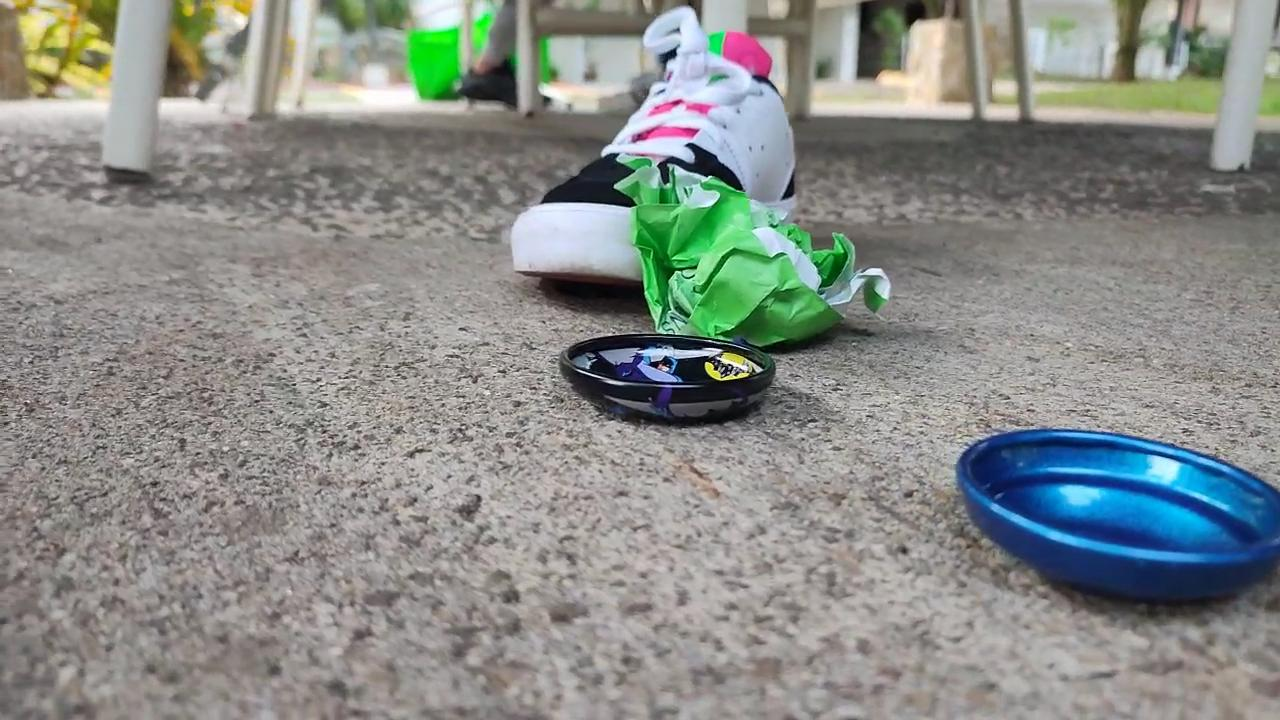Paper: (616, 147, 905, 351)
